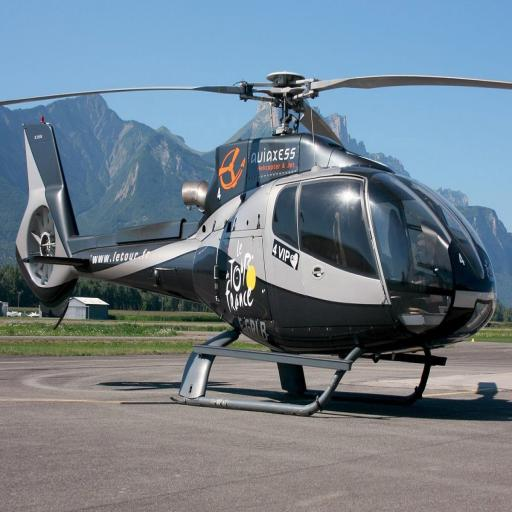helicopter: (2, 71, 511, 419)
